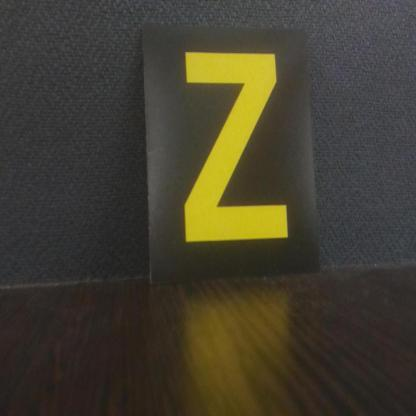z: (142, 22, 321, 277)
